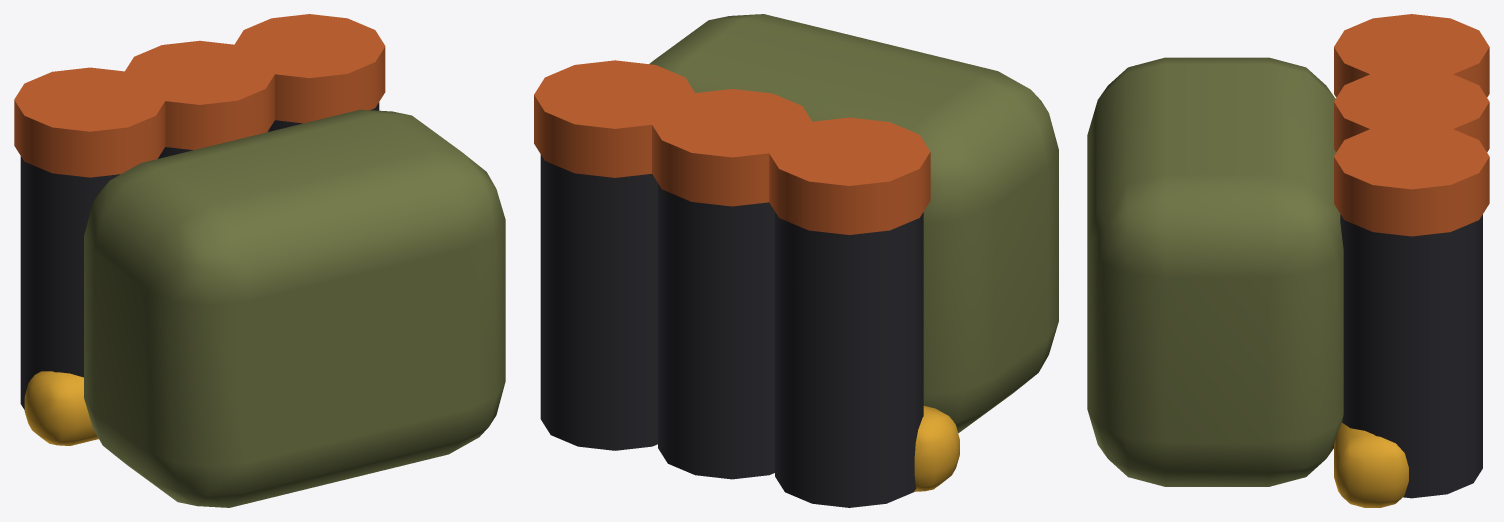
Rendered from mo_overclock.glb.
The picture shows the model from 3 angles, left to right: view 1: azimuth 30°, elevation 25°; view 2: azimuth 150°, elevation 25°; view 3: azimuth 270°, elevation 25°; orthographic projection. The views are drawn at different scales.
Parts seen in each view (by area): view 1: mo_overclock; view 2: mo_overclock; view 3: mo_overclock.
Part boxes in pixels (x1,y1,x2,y2): mo_overclock: (14, 14, 505, 507); mo_overclock: (534, 14, 1058, 507); mo_overclock: (1087, 14, 1489, 507).
Size of the model in its own units: 0.1462 by 0.1182 by 0.1333.
